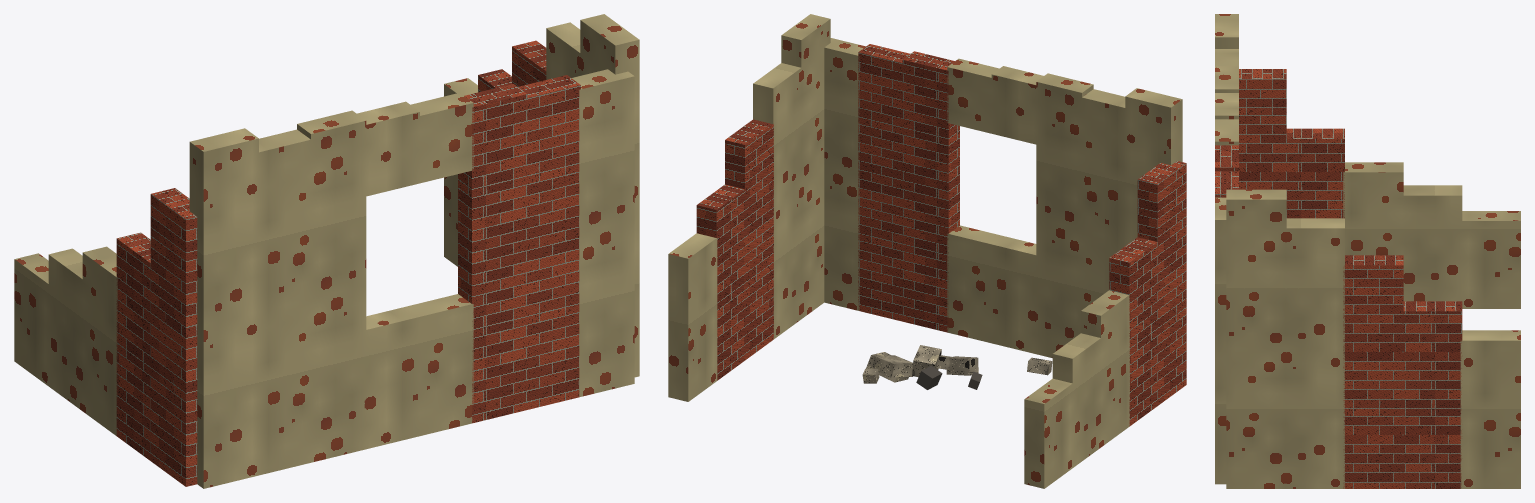
The model's file is wall_u_ruin.glb.
3 renders of one model, left to right at view 1: azimuth 30°, elevation 25°; view 2: azimuth 150°, elevation 25°; view 3: azimuth 270°, elevation 25°, orthographic. The views are drawn at different scales.
Visible parts, largest first — view 1: wall_u_ruin-col; view 2: wall_u_ruin-col; view 3: wall_u_ruin-col.
Boxes of the visible parts, x1,y1,x2,y2 form: wall_u_ruin-col: [14, 14, 639, 488]; wall_u_ruin-col: [668, 14, 1186, 488]; wall_u_ruin-col: [1215, 14, 1520, 488].
Bounding box in the file's own units: 3.38 × 2.47 × 2.3.
4 materials, 3 textured.
